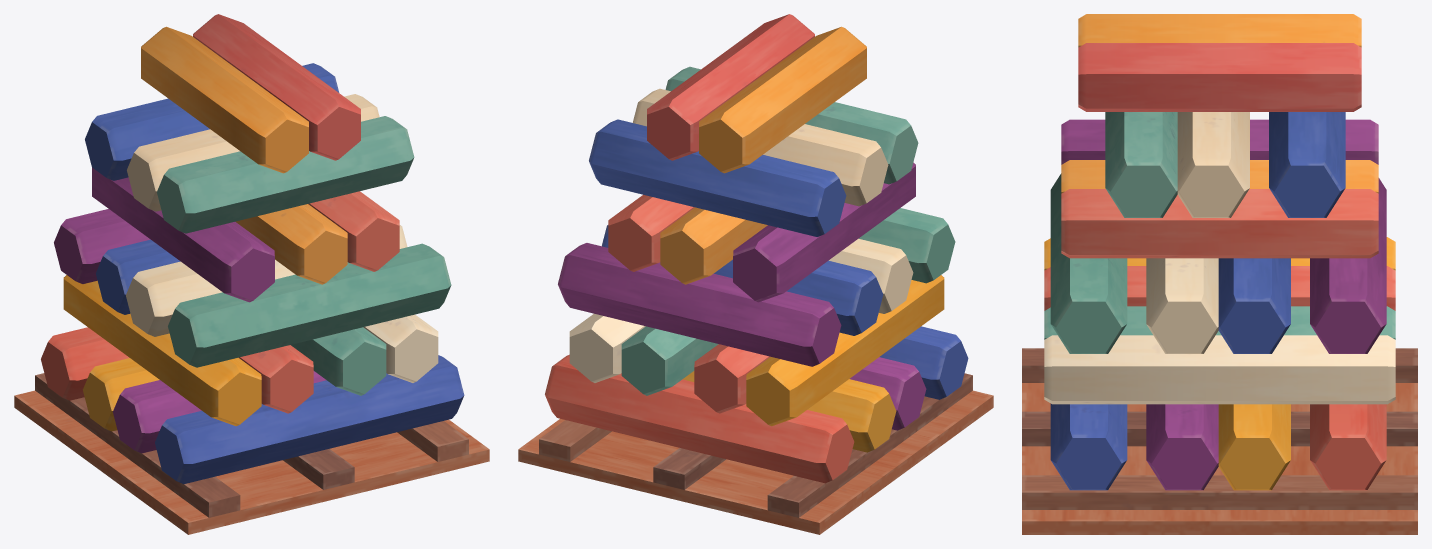
File: bolts_low.fbx
The picture shows the model from 3 angles, left to right: view 1: azimuth 30°, elevation 25°; view 2: azimuth 150°, elevation 25°; view 3: azimuth 270°, elevation 25°; orthographic projection. The views are drawn at different scales.
Visible parts, largest first — view 1: bolts; view 2: bolts; view 3: bolts.
Part boxes in pixels (x1,y1,x2,y2): bolts: (14, 14, 489, 534); bolts: (518, 14, 993, 534); bolts: (1022, 14, 1417, 534).
Size of the model in its own units: 5.8 by 6.83 by 5.8.
Materials: 1 (1 with a texture image).
